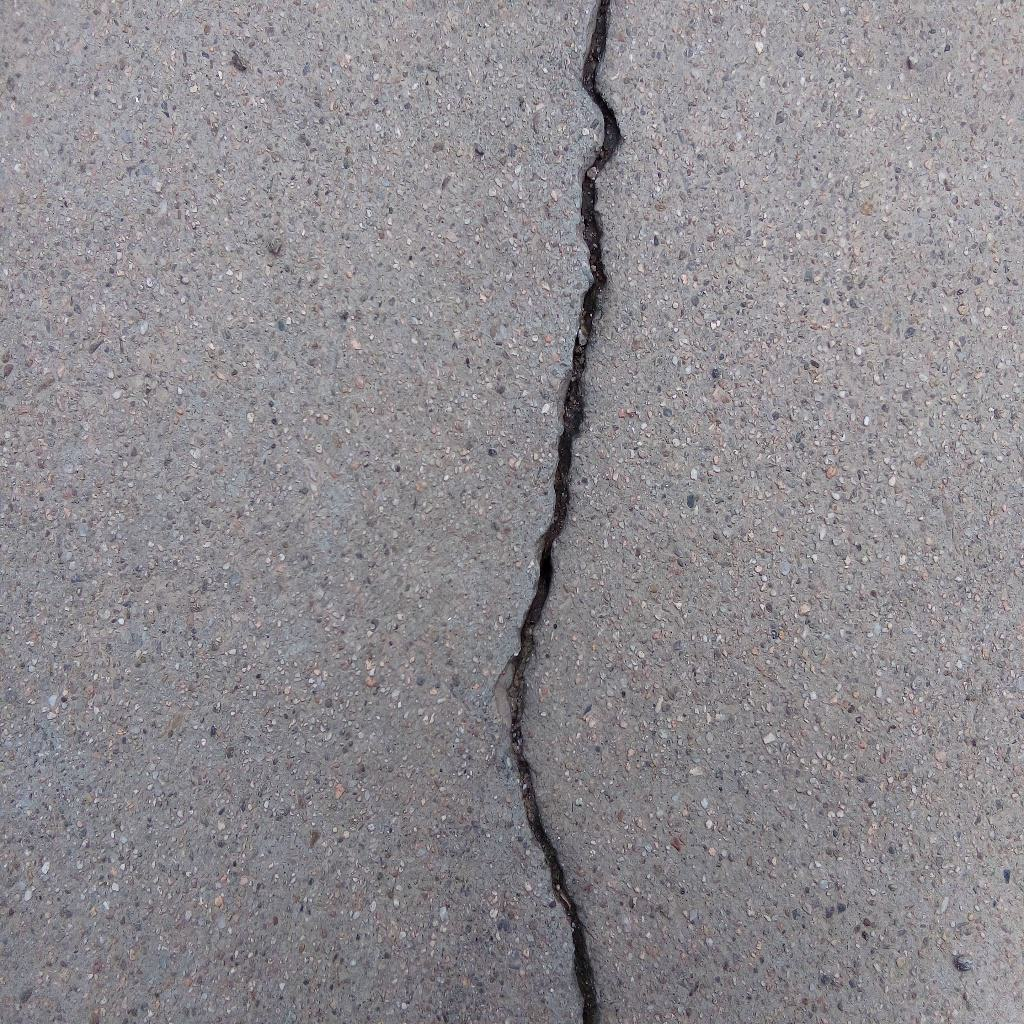Crack: (503, 1, 627, 1024)
